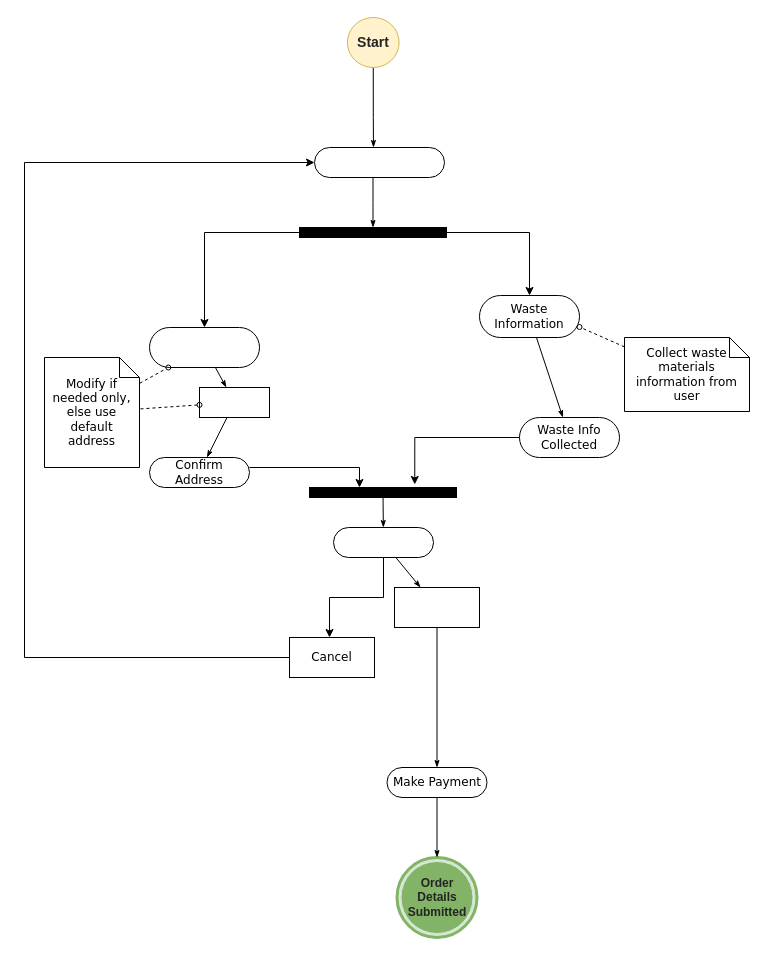
This 767x955 diagram has some shape labels left out. The shapes that lost their labels are listed below. From the top down, each one's centre as x and y in pixels, then its label:
point 379,162: Schedule Pickup
point 204,347: Default Address
point 234,402: Modify
point 383,542: Payment
point 437,607: Card Information
